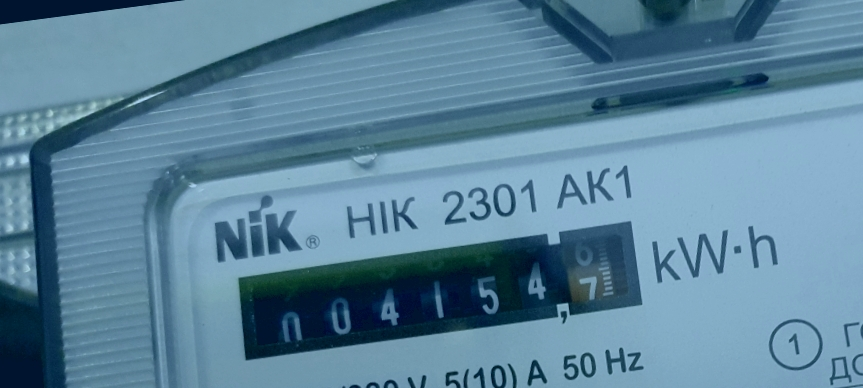0: (326, 293, 353, 337), (277, 306, 304, 342)
1: (429, 277, 447, 320)
4: (374, 285, 402, 329), (522, 257, 548, 303)
5: (473, 270, 503, 316)
6: (570, 236, 596, 268)
7: (576, 272, 600, 303)
screen: (216, 204, 661, 375)
